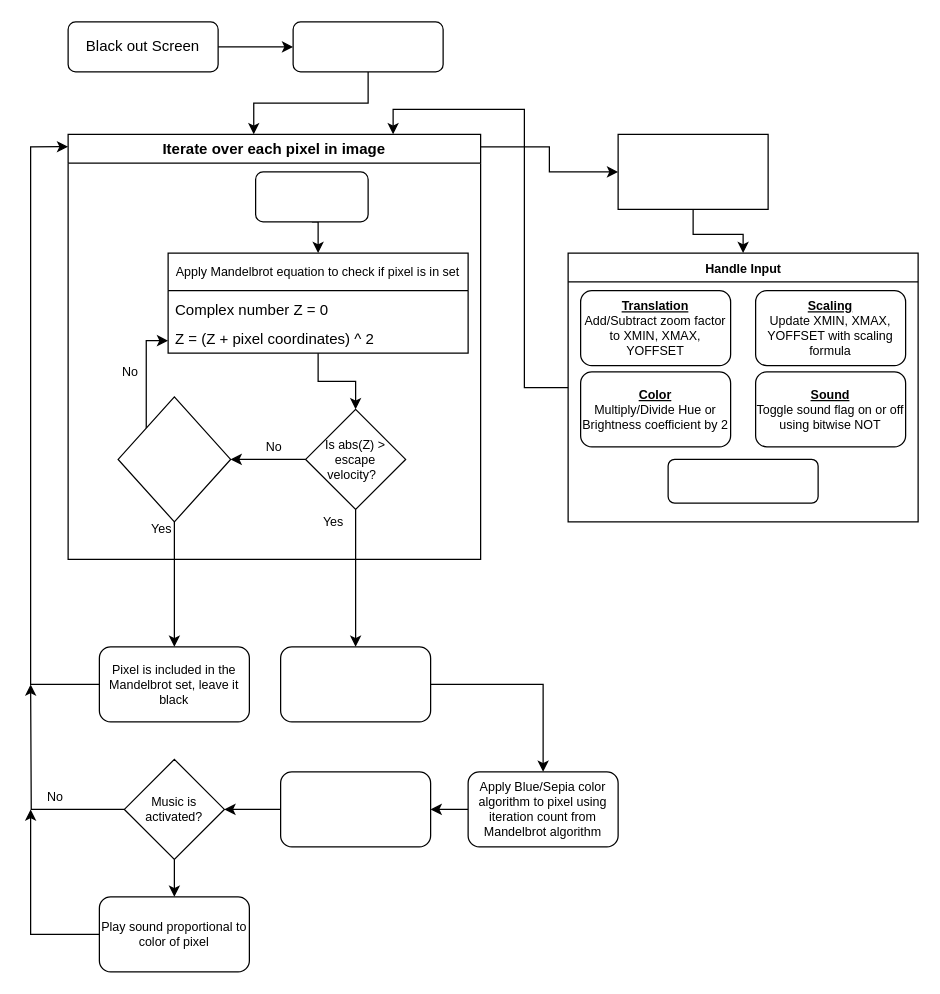
Some shapes in this 940 by 994 pixel diagram are drawn without their labels. Here are the shapes that lost their labels. From the top down, the centre of each, then its label:
At (x=367, y=46): "Load Constants and Offsets".
At (x=692, y=171): "Each pixel has been iterated over".
At (x=311, y=196): "Scale pixel to boundaries".
At (x=174, y=459): "Is the iteration count > escape velocity?".
At (x=742, y=480): "Exit".
At (x=355, y=684): "Pixel is not included in the Mandelbrot set".
At (x=355, y=809): "Draw color at pixel coordinates".
